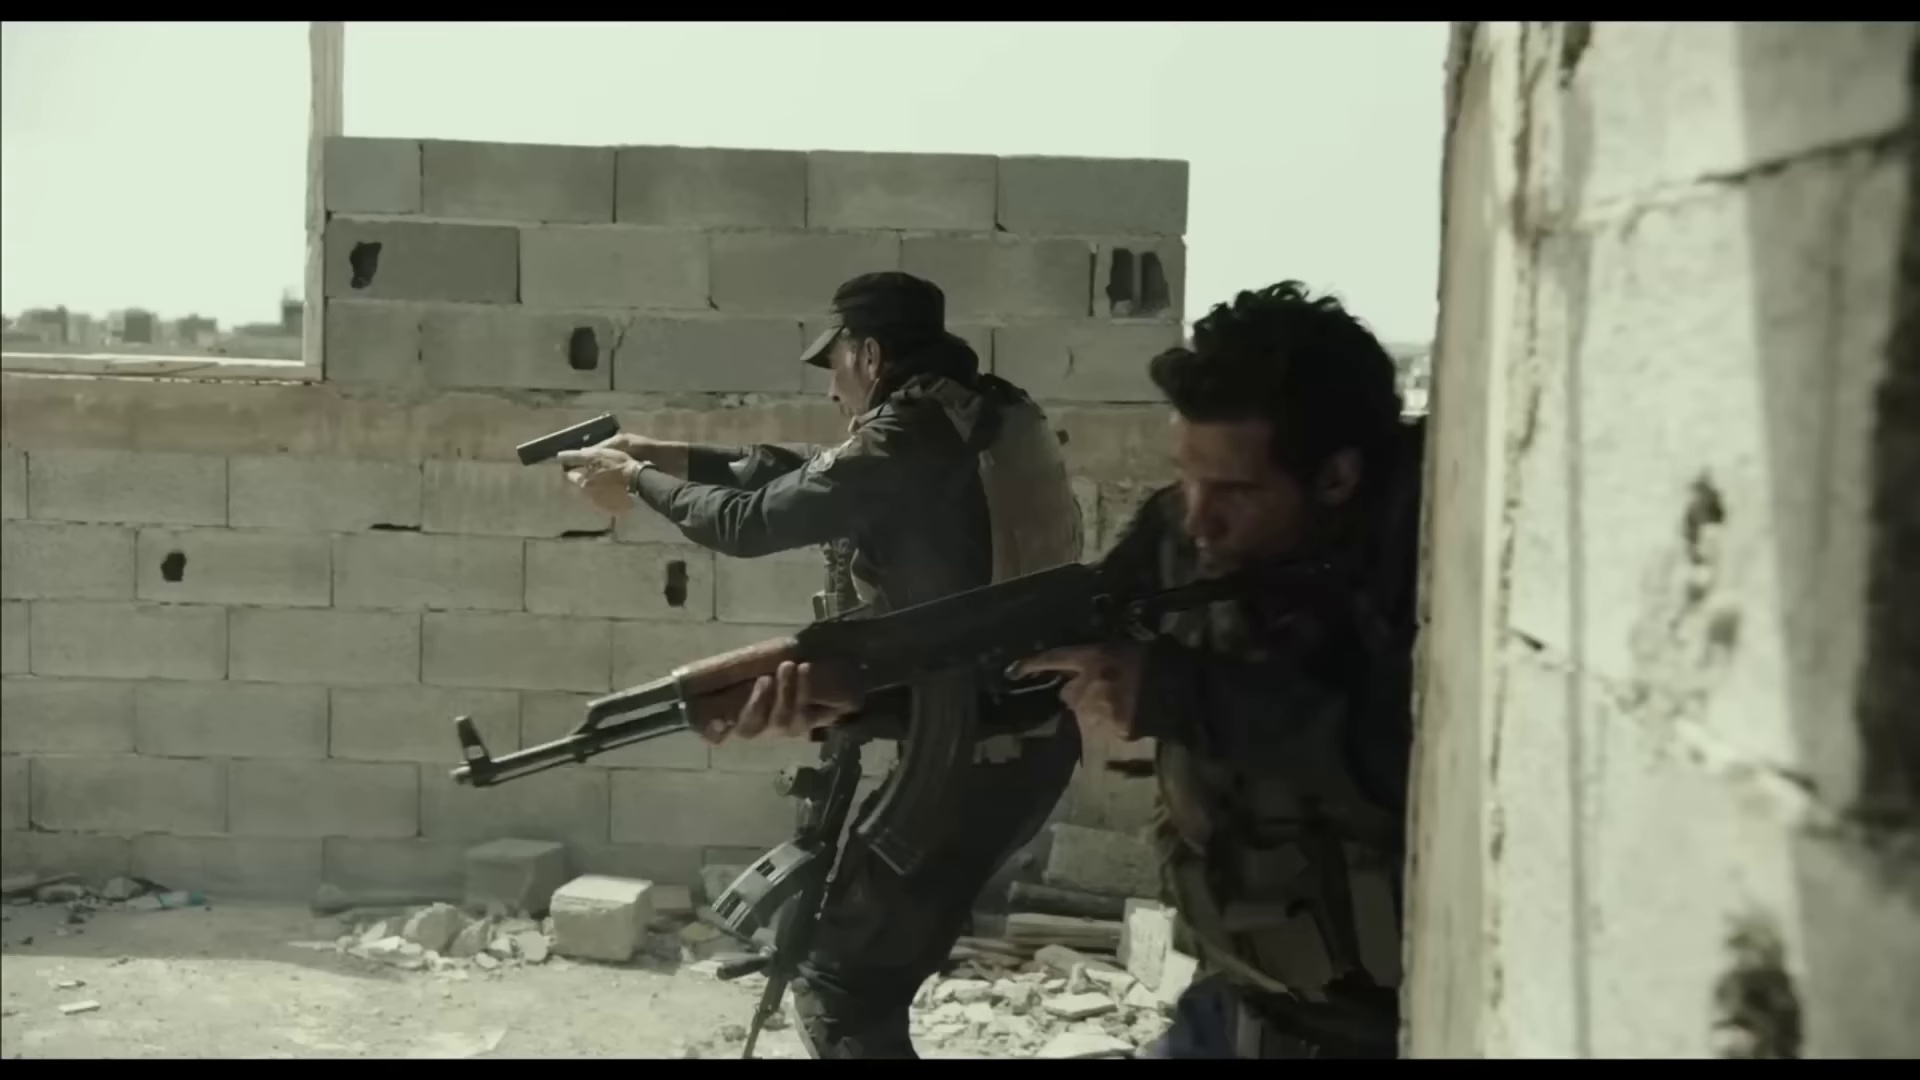gun: (448, 530, 1158, 804), (709, 711, 881, 1058), (510, 406, 637, 493)
p_w_gun: (452, 287, 1423, 1059), (512, 266, 1089, 1071)
